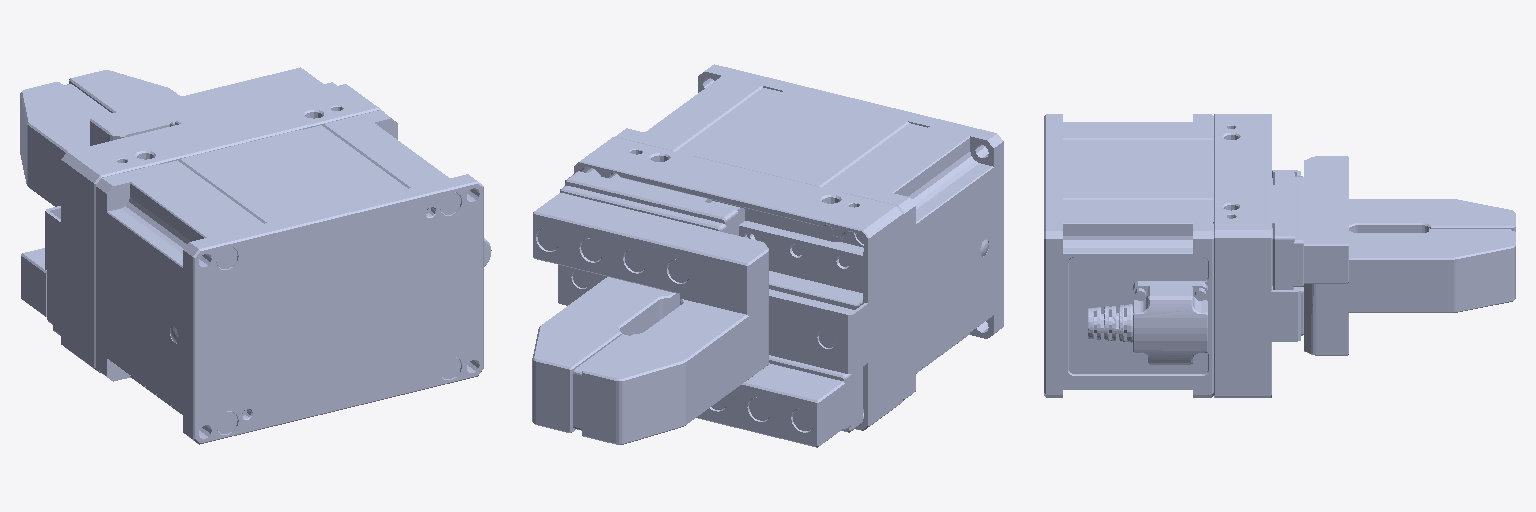
URDF robot description (ur5):
<?xml version="1.0" ?>
<!-- =================================================================================== -->
<!-- |    This document was autogenerated by xacro from ur5_robot.urdf.xacro           | -->
<!-- |    EDITING THIS FILE BY HAND IS NOT RECOMMENDED                                 | -->
<!-- =================================================================================== -->
<robot name="ur5" xmlns:xacro="http://wiki.ros.org/xacro">
  <link name="base_link">
    <visual>
      <geometry>
        <mesh filename="package://ur5/meshes/ur5/visual/base.dae"/>
      </geometry>
      <material name="LightGrey">
        <color rgba="0.7 0.7 0.7 1.0"/>
      </material>
    </visual>
    <collision>
      <geometry>
        <mesh filename="package://ur5/meshes/ur5/collision/base.obj"/>
      </geometry>
    </collision>
    <inertial>
      <mass value="4.0"/>
      <origin rpy="0 0 0" xyz="0.0 0.0 0.0"/>
      <inertia ixx="0.00443333156" ixy="0.0" ixz="0.0" iyy="0.00443333156" iyz="0.0" izz="0.0072"/>
    </inertial>
  </link>
  <joint name="shoulder_pan_joint" type="revolute">
    <parent link="base_link"/>
    <child link="shoulder_link"/>
    <origin rpy="0.0 0.0 0.0" xyz="0.0 0.0 0.089159"/>
    <axis xyz="0 0 1"/>
    <limit effort="150.0" lower="-3.14159265359" upper="3.14159265359" velocity="3.15"/>
    <dynamics damping="0.0" friction="0.0"/>
  </joint>
  <link name="shoulder_link">
    <visual>
      <geometry>
        <mesh filename="package://ur5/meshes/ur5/visual/shoulder.dae"/>
      </geometry>
      <material name="LightGrey">
        <color rgba="0.7 0.7 0.7 1.0"/>
      </material>
    </visual>
    <collision>
      <geometry>
        <mesh filename="package://ur5/meshes/ur5/collision/shoulder.obj"/>
      </geometry>
    </collision>
    <inertial>
      <mass value="3.7"/>
      <origin rpy="0 0 0" xyz="0.0 0.0 0.0"/>
      <inertia ixx="0.010267495893" ixy="0.0" ixz="0.0" iyy="0.010267495893" iyz="0.0" izz="0.00666"/>
    </inertial>
  </link>
  <joint name="shoulder_lift_joint" type="revolute">
    <parent link="shoulder_link"/>
    <child link="upper_arm_link"/>
    <origin rpy="0.0 1.57079632679 0.0" xyz="0.0 0.13585 0.0"/>
    <axis xyz="0 1 0"/>
    <limit effort="150.0" lower="-3.14159265359" upper="3.14159265359" velocity="3.15"/>
    <dynamics damping="0.0" friction="0.0"/>
  </joint>
  <link name="upper_arm_link">
    <visual>
      <geometry>
        <mesh filename="package://ur5/meshes/ur5/visual/upperarm.dae"/>
      </geometry>
      <material name="LightGrey">
        <color rgba="0.7 0.7 0.7 1.0"/>
      </material>
    </visual>
    <collision>
      <geometry>
        <mesh filename="package://ur5/meshes/ur5/collision/upperarm.obj"/>
      </geometry>
    </collision>
    <inertial>
      <mass value="8.393"/>
      <origin rpy="0 0 0" xyz="0.0 0.0 0.28"/>
      <inertia ixx="0.22689067591" ixy="0.0" ixz="0.0" iyy="0.22689067591" iyz="0.0" izz="0.0151074"/>
    </inertial>
  </link>
  <joint name="elbow_joint" type="revolute">
    <parent link="upper_arm_link"/>
    <child link="forearm_link"/>
    <origin rpy="0.0 0.0 0.0" xyz="0.0 -0.1197 0.425"/>
    <axis xyz="0 1 0"/>
    <limit effort="150.0" lower="-3.14159265359" upper="3.14159265359" velocity="3.15"/>
    <dynamics damping="0.0" friction="0.0"/>
  </joint>
  <link name="forearm_link">
    <visual>
      <geometry>
        <mesh filename="package://ur5/meshes/ur5/visual/forearm.dae"/>
      </geometry>
      <material name="LightGrey">
        <color rgba="0.7 0.7 0.7 1.0"/>
      </material>
    </visual>
    <collision>
      <geometry>
        <mesh filename="package://ur5/meshes/ur5/collision/forearm.obj"/>
      </geometry>
    </collision>
    <inertial>
      <mass value="2.275"/>
      <origin rpy="0 0 0" xyz="0.0 0.0 0.196125"/>
      <inertia ixx="0.0312167910289" ixy="0.0" ixz="0.0" iyy="0.0312167910289" iyz="0.0" izz="0.004095"/>
    </inertial>
  </link>
  <joint name="wrist_1_joint" type="revolute">
    <parent link="forearm_link"/>
    <child link="wrist_1_link"/>
    <origin rpy="0.0 1.57079632679 0.0" xyz="0.0 0.0 0.39225"/>
    <axis xyz="0 1 0"/>
    <limit effort="28.0" lower="-3.14159265359" upper="3.14159265359" velocity="3.2"/>
    <dynamics damping="0.0" friction="0.0"/>
  </joint>
  <link name="wrist_1_link">
    <visual>
      <geometry>
        <mesh filename="package://ur5/meshes/ur5/visual/wrist1.dae"/>
      </geometry>
      <material name="LightGrey">
        <color rgba="0.7 0.7 0.7 1.0"/>
      </material>
    </visual>
    <collision>
      <geometry>
        <mesh filename="package://ur5/meshes/ur5/collision/wrist1.obj"/>
      </geometry>
    </collision>
    <inertial>
      <mass value="1.219"/>
      <origin rpy="0 0 0" xyz="0.0 0.093 0.0"/>
      <inertia ixx="0.00255989897604" ixy="0.0" ixz="0.0" iyy="0.00255989897604" iyz="0.0" izz="0.0021942"/>
    </inertial>
  </link>
  <joint name="wrist_2_joint" type="revolute">
    <parent link="wrist_1_link"/>
    <child link="wrist_2_link"/>
    <origin rpy="0.0 0.0 0.0" xyz="0.0 0.093 0.0"/>
    <axis xyz="0 0 1"/>
    <limit effort="28.0" lower="-3.14159265359" upper="3.14159265359" velocity="3.2"/>
    <dynamics damping="0.0" friction="0.0"/>
  </joint>
  <link name="wrist_2_link">
    <visual>
      <geometry>
        <mesh filename="package://ur5/meshes/ur5/visual/wrist2.dae"/>
      </geometry>
      <material name="LightGrey">
        <color rgba="0.7 0.7 0.7 1.0"/>
      </material>
    </visual>
    <collision>
      <geometry>
        <mesh filename="package://ur5/meshes/ur5/collision/wrist2.obj"/>
      </geometry>
    </collision>
    <inertial>
      <mass value="1.219"/>
      <origin rpy="0 0 0" xyz="0.0 0.0 0.09465"/>
      <inertia ixx="0.00255989897604" ixy="0.0" ixz="0.0" iyy="0.00255989897604" iyz="0.0" izz="0.0021942"/>
    </inertial>
  </link>
  <joint name="wrist_3_joint" type="revolute">
    <parent link="wrist_2_link"/>
    <child link="wrist_3_link"/>
    <origin rpy="0.0 0.0 0.0" xyz="0.0 0.0 0.09465"/>
    <axis xyz="0 1 0"/>
    <limit effort="28.0" lower="-3.14159265359" upper="3.14159265359" velocity="3.2"/>
    <dynamics damping="0.0" friction="0.0"/>
  </joint>
  <link name="wrist_3_link">
    <visual>
      <geometry>
        <mesh filename="package://ur5/meshes/ur5/visual/wrist3.dae"/>
      </geometry>
      <material name="LightGrey">
        <color rgba="0.7 0.7 0.7 1.0"/>
      </material>
    </visual>
    <collision>
      <geometry>
        <mesh filename="package://ur5/meshes/ur5/collision/wrist3.obj"/>
      </geometry>
    </collision>
    <inertial>
      <mass value="0.1879"/>
      <origin rpy="1.57079632679 0 0" xyz="0.0 0.06505 0.0"/>
      <inertia ixx="8.46958911216e-05" ixy="0.0" ixz="0.0" iyy="8.46958911216e-05" iyz="0.0" izz="0.0001321171875"/>
    </inertial>
  </link>

  <link name="base"/>
  <joint name="base_link-base_fixed_joint" type="fixed">
    <origin rpy="0 0 -3.14159265359" xyz="0 0 0"/>
    <parent link="base_link"/>
    <child link="base"/>
  </joint>
  
  <link name="tool0"/>
  <joint name="wrist_3_link-tool0_fixed_joint" type="fixed">
    <origin rpy="-1.57079632679 0 0" xyz="0 0.0823 0"/>
    <parent link="wrist_3_link"/>
    <child link="tool0"/>
  </joint>
  <joint name="hand_joint" type="fixed">
    <origin rpy="0 0 1.5707" xyz="0 0 0"/>
    <parent link="tool0"/>
    <child link="hand_base_link"/>
  </joint>

  <link name="hand_base_link">
    <inertial>
      <origin
        xyz="2.87706262272012E-05 0.00218479828314205 0.0350928713955748"
        rpy="0 0 0" />
      <mass
        value="0.415638983663421" />
      <inertia
        ixx="0.000396533135403228"
        ixy="-1.97625400107318E-08"
        ixz="2.15168193507134E-08"
        iyy="0.000196216356205772"
        iyz="-2.95609188452226E-07"
        izz="0.000433341395250827" />
    </inertial>
    <visual>
      <origin
        xyz="0 0 0"
        rpy="0 0 0" />
      <geometry>
        <mesh
          filename="package://ur5/meshes/hand.dae" />
      </geometry>
      <material
        name="">
        <color
          rgba="0.792156862745098 0.819607843137255 0.933333333333333 1" />
      </material>
    </visual>
    <collision>
      <origin
        xyz="0 0 0"
        rpy="0 0 0" />
      <geometry>
        <mesh
          filename="package://ur5/meshes/hand.obj" />
      </geometry>
    </collision>
  </link>
  <link name="left_finger">
    <inertial>
      <origin
        xyz="0.0092134924632298 -0.00194790394990391 -0.0176274897759977"
        rpy="0 0 0" />
      <mass
        value="0.0589543896992846" />
      <!-- <inertia
        ixx="3.37272907966156E-05"
        ixy="3.83269385718325E-06"
        ixz="-4.62772008724202E-06"
        iyy="2.37128965154064E-05"
        iyz="4.94815116549899E-06"
        izz="1.98369145830284E-05" /> -->
    </inertial>
    <visual>
      <origin
        xyz="0 0 0"
        rpy="0 0 0" />
      <geometry>
        <mesh
          filename="package://ur5/meshes/finger.dae" />
      </geometry>
      <material
        name="">
        <color
          rgba="0.792156862745098 0.819607843137255 0.933333333333333 1" />
      </material>
    </visual>
    <collision>
      <origin
        xyz="0 0 0"
        rpy="0 0 0" />
      <geometry>
        <mesh
          filename="package://ur5/meshes/finger.obj" />
      </geometry>
    </collision>
  </link>
  <link name="right_finger">
    <inertial>
      <origin
        xyz="0.00921349246322973 -0.00194790394990389 -0.0176274897759977"
        rpy="0 0 0" />
      <mass
        value="0.0589543896992846" />
      <!-- <inertia
        ixx="3.37272907966157E-05"
        ixy="3.83269385718325E-06"
        ixz="-4.62772008724202E-06"
        iyy="2.37128965154064E-05"
        iyz="4.94815116549898E-06"
        izz="1.98369145830284E-05" /> -->
    </inertial>
    <visual>
      <origin xyz="0 0 0" rpy="0 0 3.14159265359" />
      <geometry>
        <mesh
          filename="package://ur5/meshes/finger.dae"/>
      </geometry>
      <material
        name="">
        <color
          rgba="0.792156862745098 0.819607843137255 0.933333333333333 1" />
      </material>
    </visual>
    <collision>
      <origin xyz="0 0 0" rpy="0 0 3.14159265359" />
      <geometry>
        <mesh
          filename="package://ur5/meshes/finger.obj" />
      </geometry>
    </collision>
  </link>
  <joint name="left_finger_joint" type="prismatic">
    <origin xyz="0 0 0.0851" rpy="0 3.14159 3.14159" />
    <parent link="hand_base_link" />
    <child link="left_finger" />
    <axis xyz="0 1 0" />
	  <dynamics damping="10.0"/>
    <limit lower="0.0" upper="0.04" effort="140" velocity="0.036" />
  </joint>
  <joint name="right_finger_joint" type="prismatic">
    <origin  xyz="0 0 0.0851" rpy="0 3.14159 3.14159" />
    <parent link="hand_base_link" />
    <child link="right_finger" />
    <axis xyz="0 -1 0" />
	  <dynamics damping="10.0"/>
    <limit lower="0.0" upper="0.04" effort="140" velocity="0.036" />
	  <mimic joint="left_finger_joint"/>
  </joint>
   <joint name="grip_vis_joint" type="fixed">
    <parent link="hand_base_link"/>
    <child link="grip_site"/>
    <origin rpy="0 0 0" xyz="0 0 0.1425"/>
  </joint>
  <link name="grip_site">
    <visual>
      <geometry>
        <sphere radius="0.005"/>
      </geometry>
      <material name="Vis"/>
    </visual>
  </link>
  <joint name="leftfinger_tip_joint" type="fixed">
    <parent link="left_finger"/>
    <child link="leftfinger_tip"/>
    <origin rpy="0 3.14159 3.14159 " xyz="0 0.002 -0.0574"/>
  </joint>
  <link name="leftfinger_tip">
    <collision>
      <geometry>
        <box size="0.013 0.004 0.013"/>
      </geometry>
    </collision>
  </link>
  <joint name="rightfinger_tip_joint" type="fixed">
    <parent link="right_finger"/>
    <child link="rightfinger_tip"/>
    <origin rpy="0 3.14159 3.14159" xyz="0 -0.002 -0.0574"/>
  </joint>
  <link name="rightfinger_tip">
    <collision>
      <geometry>
        <box size="0.013 0.004 0.013"/>
      </geometry>
    </collision>
  </link>
</robot>

--- What the picture shows (computed from the rendered views, not written in the file) ---
3 views of the same robot in one strip: view 1: azimuth 30°, elevation 25°; view 2: azimuth 150°, elevation 25°; view 3: azimuth 270°, elevation 25° (orthographic).
Robot: ur5 — 15 links, 14 joints (6 revolute, 2 prismatic, 6 fixed); root link base_link; default pose: all joints at 0.
Links seen in each view (by area): view 1: hand_base_link, left_finger, right_finger; view 2: hand_base_link, left_finger, right_finger; view 3: hand_base_link, right_finger, left_finger.
Boxes of the visible links, x1,y1,x2,y2 form: hand_base_link: [45, 84, 491, 444]; left_finger: [20, 67, 336, 206]; right_finger: [21, 70, 180, 335]; hand_base_link: [558, 64, 1003, 430]; left_finger: [533, 169, 768, 444]; right_finger: [532, 277, 863, 447]; hand_base_link: [1044, 114, 1300, 397]; right_finger: [1301, 231, 1515, 355]; left_finger: [1272, 156, 1515, 289].
Size in the robot's own frame: 0.1095 by 0.156 by 0.0617 metres.
Meshes: 9 distinct files referenced, 3 mesh visuals loaded (2 Collada DAE); not drawn: 7 (reference not matched to a file when rendering).